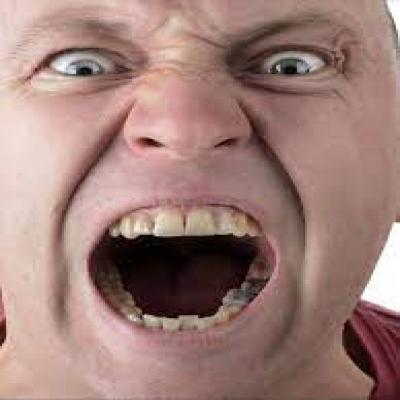angry: (1, 0, 385, 390)
